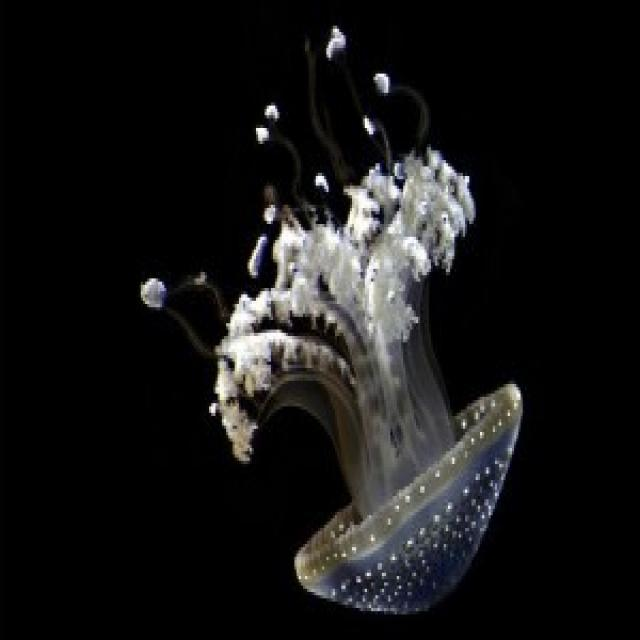Jellyfish: (187, 94, 528, 616)
